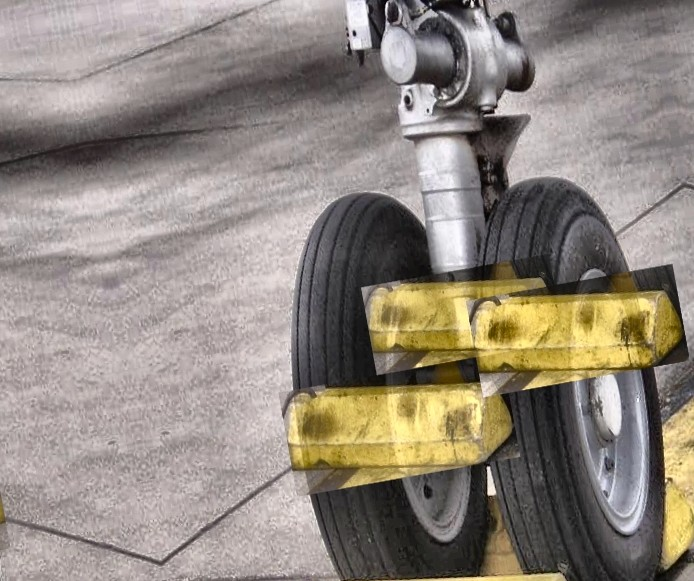chock: (278, 353, 520, 497), (466, 264, 690, 397), (361, 254, 564, 375)
wheel: (448, 164, 694, 581), (256, 179, 501, 581)
